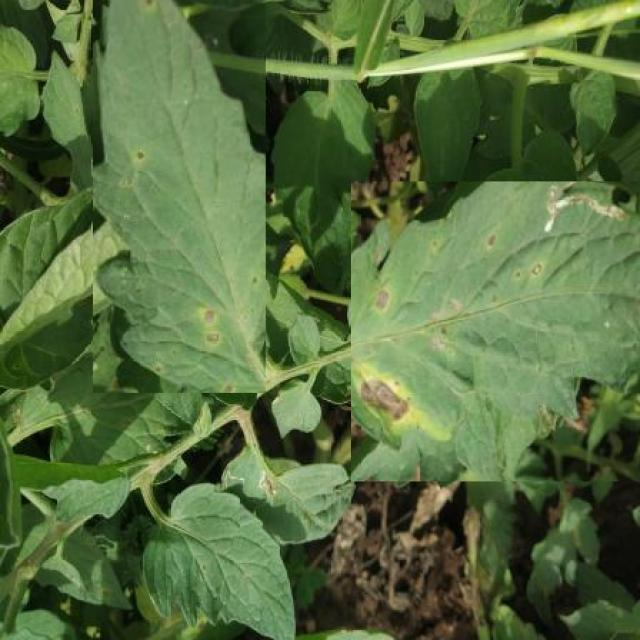Early Blight: (350, 182, 640, 482), (93, 0, 266, 393)
